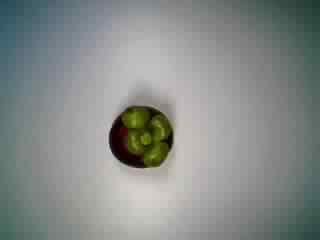mangosteen: (104, 100, 178, 174)
